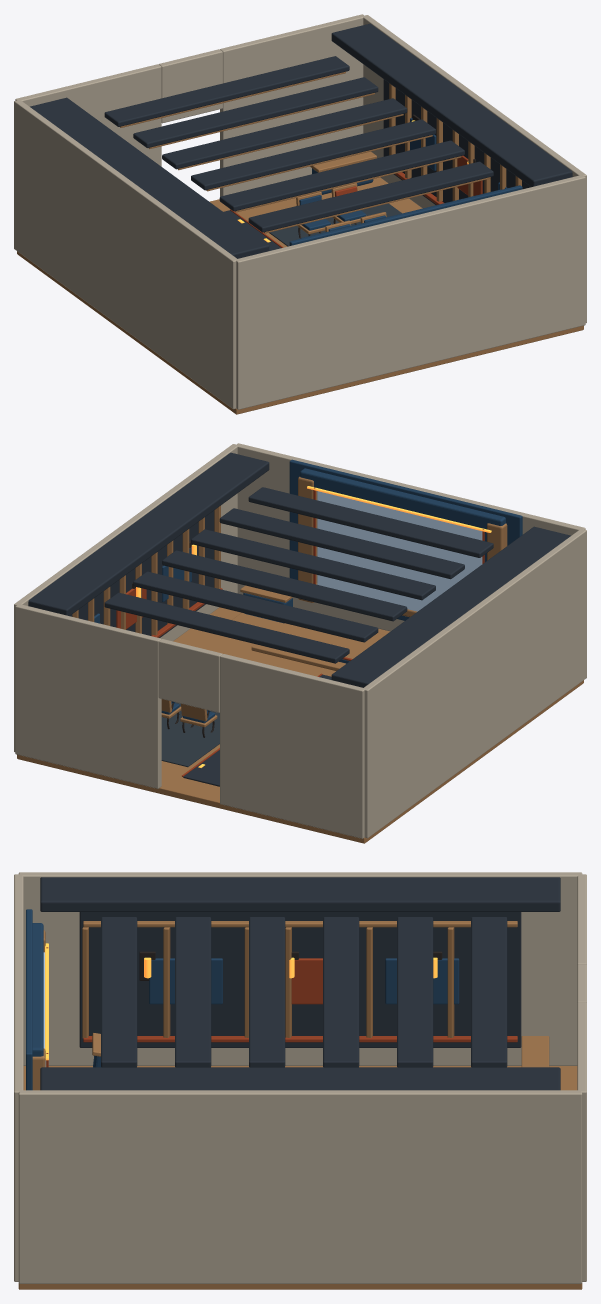
3 renders of one model, top to bottom at view 1: azimuth 30°, elevation 25°; view 2: azimuth 150°, elevation 25°; view 3: azimuth 270°, elevation 25°, orthographic. The views are drawn at different scales.
Visible parts, largest first — view 1: architecture.wall.focal, architecture.wall.left, ceiling.perimeter.right, architecture.wall.rear-right, ceiling.perimeter.left, architecture.wall.rear-left, ceiling.raft.01, ceiling.raft.02, ceiling.raft.05, ceiling.raft.04, ceiling.raft.06, ceiling.raft.03 (+7 smaller); view 2: architecture.wall.left, architecture.wall.rear-right, architecture.wall.rear-left, ceiling.perimeter.right, ceiling.perimeter.left, architecture.floor, media.debug-main, architecture.wall.focal, ceiling.raft.05, ceiling.raft.06, ceiling.raft.01, ceiling.raft.02 (+14 smaller); view 3: architecture.wall.right, architecture.wall.left, acoustic.backing.left, ceiling.perimeter.left, ceiling.perimeter.right, ceiling.raft.05, ceiling.raft.06, ceiling.raft.01, ceiling.raft.02, ceiling.raft.03, ceiling.raft.04, architecture.floor (+17 smaller).
Boxes of the visible parts, x1=… form: architecture.wall.focal: x1=236, y1=175, x2=585, y2=409; architecture.wall.left: x1=14, y1=100, x2=237, y2=409; ceiling.perimeter.right: x1=331, y1=23, x2=572, y2=186; architecture.wall.rear-right: x1=220, y1=14, x2=364, y2=196; ceiling.perimeter.left: x1=30, y1=97, x2=269, y2=258; architecture.wall.rear-left: x1=15, y1=64, x2=161, y2=166; ceiling.raft.01: x1=248, y1=161, x2=493, y2=232; ceiling.raft.02: x1=219, y1=140, x2=464, y2=211; ceiling.raft.05: x1=133, y1=77, x2=378, y2=147; ceiling.raft.04: x1=162, y1=98, x2=407, y2=169; ceiling.raft.06: x1=104, y1=56, x2=349, y2=126; ceiling.raft.03: x1=191, y1=119, x2=435, y2=190; architecture.wall.left: x1=363, y1=529, x2=586, y2=838; architecture.wall.rear-right: x1=15, y1=604, x2=161, y2=788; architecture.wall.rear-left: x1=220, y1=654, x2=364, y2=838; ceiling.perimeter.right: x1=28, y1=452, x2=269, y2=615; ceiling.perimeter.left: x1=331, y1=526, x2=570, y2=687; architecture.floor: x1=17, y1=607, x2=583, y2=843; media.debug-main: x1=317, y1=491, x2=482, y2=611; architecture.wall.focal: x1=236, y1=443, x2=585, y2=631; ceiling.raft.05: x1=133, y1=571, x2=378, y2=642; ceiling.raft.06: x1=104, y1=592, x2=349, y2=663; ceiling.raft.01: x1=248, y1=487, x2=493, y2=557; ceiling.raft.02: x1=219, y1=508, x2=464, y2=579; architecture.wall.right: x1=18, y1=1090, x2=582, y2=1283; architecture.wall.left: x1=18, y1=872, x2=582, y2=1065; acoustic.backing.left: x1=79, y1=912, x2=521, y2=1047; ceiling.perimeter.left: x1=40, y1=877, x2=560, y2=911; ceiling.perimeter.right: x1=40, y1=1067, x2=560, y2=1090; ceiling.raft.05: x1=397, y1=917, x2=433, y2=1067; ceiling.raft.06: x1=471, y1=917, x2=507, y2=1067; ceiling.raft.01: x1=101, y1=917, x2=137, y2=1067; ceiling.raft.02: x1=175, y1=917, x2=211, y2=1067; ceiling.raft.03: x1=249, y1=917, x2=285, y2=1067; ceiling.raft.04: x1=323, y1=917, x2=359, y2=1067; architecture.floor: x1=18, y1=1066, x2=582, y2=1289.
Bounding box in the file's own units: 11 × 4.62 × 12.
